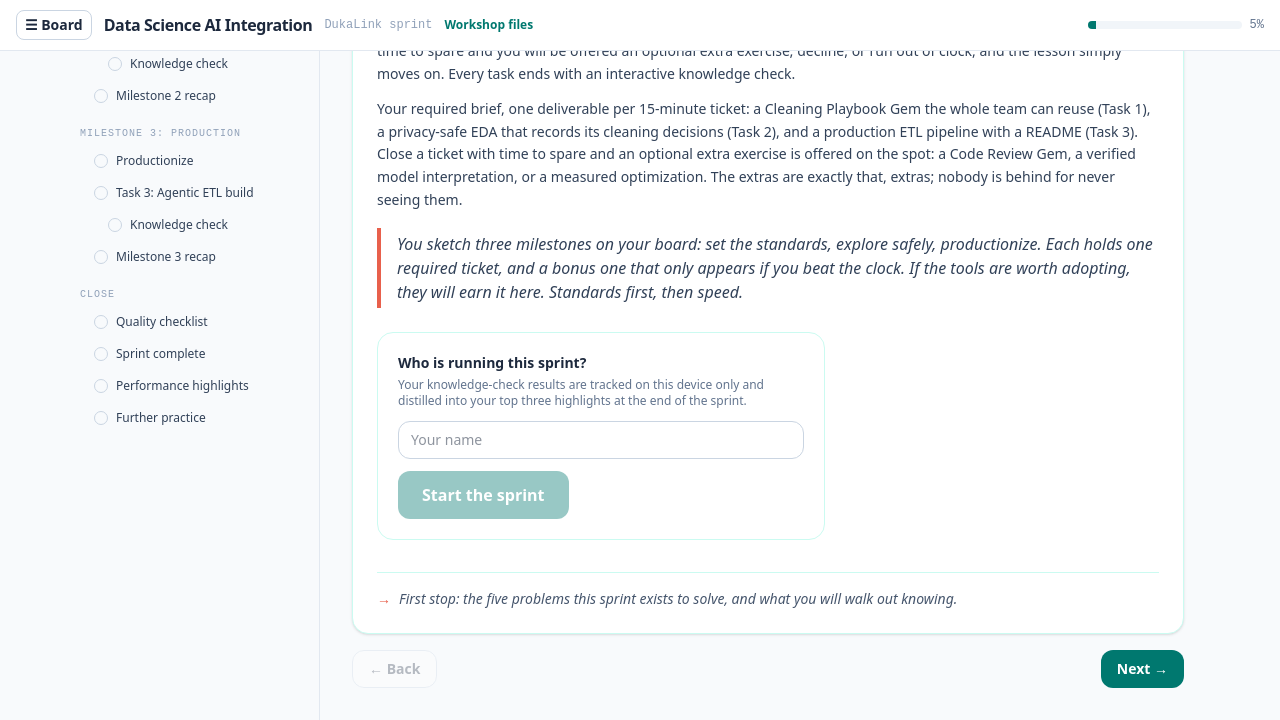
welcome and storyline › opens the outcomes page with an introductory sentence before the list
This screenshot has width=1280, height=720.
(page scrolled)
Type "Amina" into the field with placeholder "Your name" at (601, 440), box [398,420,804,458]
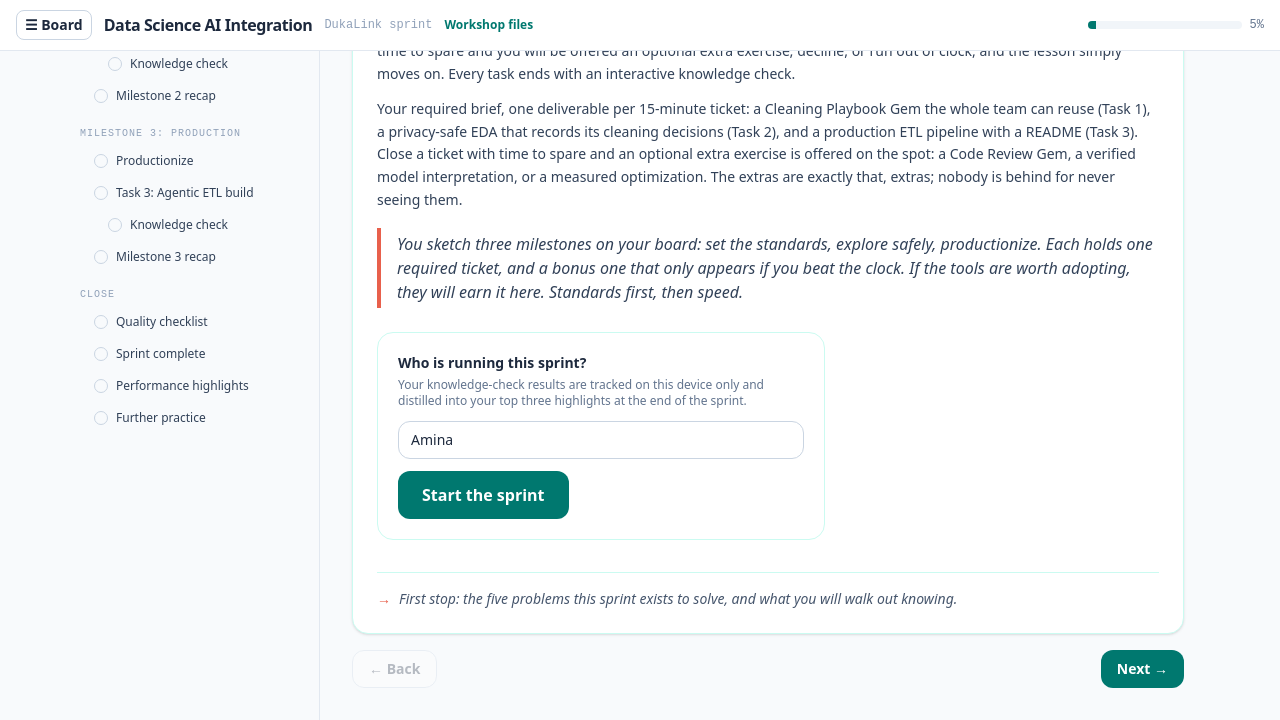
Click the button "Start the sprint" at (483, 494), box [398,470,568,518]
(page scrolled)
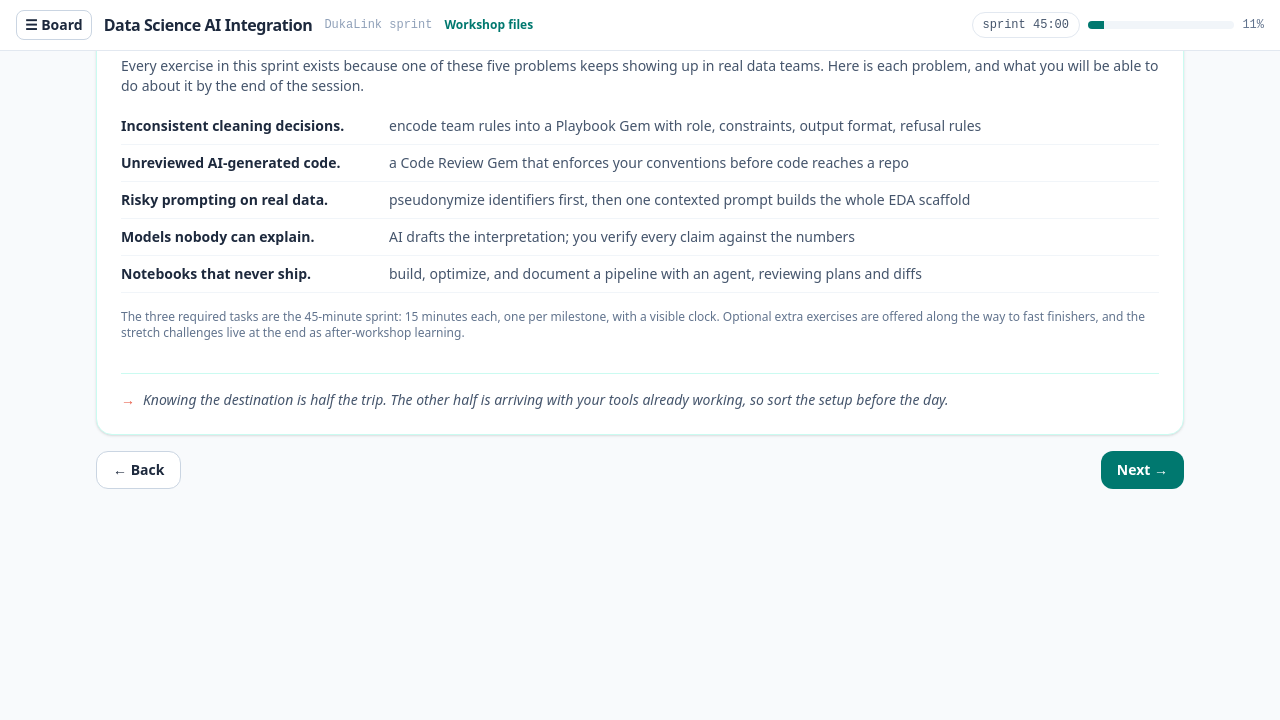
Expected: the heading "Five problems every data team recognises" is shown, [121,11,601,44]
Expected: the text "Every exercise in this sprint exists because one of these five problems" is shown, [121,56,1158,95]
